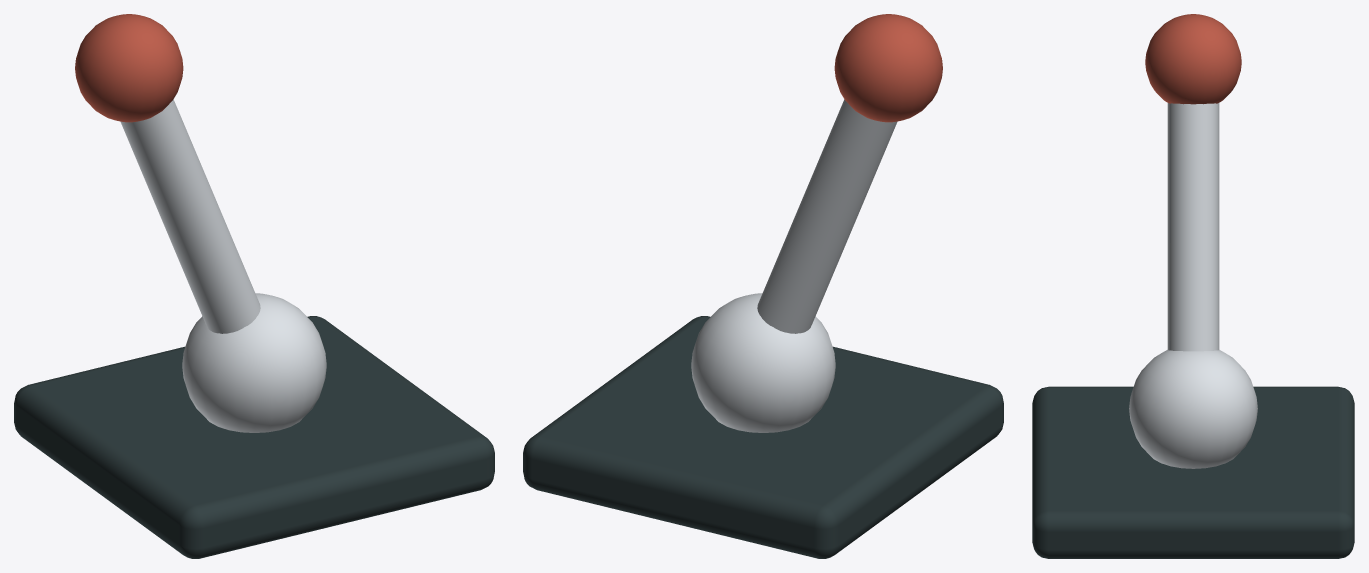
File: lever.glb
3 renders of one model, left to right at view 1: azimuth 30°, elevation 25°; view 2: azimuth 150°, elevation 25°; view 3: azimuth 270°, elevation 25°, orthographic. The views are drawn at different scales.
Visible parts, largest first — view 1: lever; view 2: lever; view 3: lever.
Boxes of the visible parts, left/top/right/bottom form: lever: left=14, top=14, right=494, bottom=558; lever: left=523, top=14, right=1003, bottom=558; lever: left=1032, top=14, right=1354, bottom=558.
Size of the model in its own units: 0.525 by 0.725 by 0.5.
